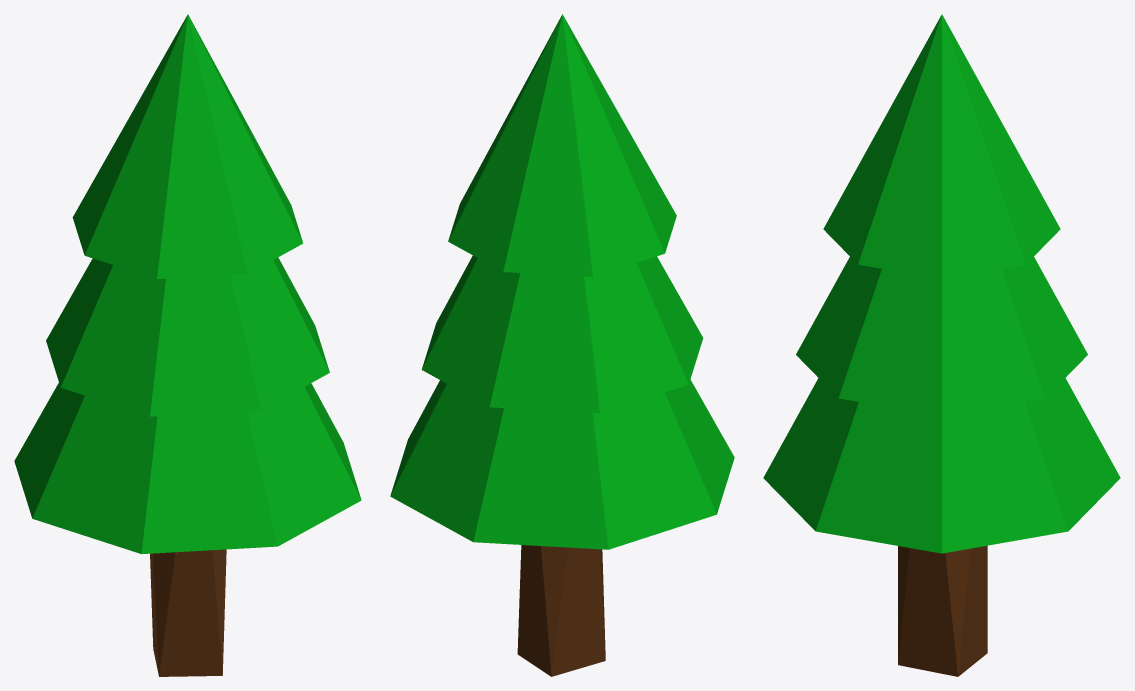
File: lowpoly-tree.glb
3 renders of one model, left to right at view 1: azimuth 30°, elevation 25°; view 2: azimuth 150°, elevation 25°; view 3: azimuth 270°, elevation 25°, orthographic.
Parts seen in each view (by area): view 1: Cone, Cone.002, Cone.001, Cylinder; view 2: Cone, Cone.002, Cone.001, Cylinder; view 3: Cone, Cone.002, Cone.001, Cylinder.
Part boxes in pixels (left/top/right/bottom): Cone: left=14, top=383, right=361, bottom=554; Cone.002: left=72, top=14, right=303, bottom=279; Cone.001: left=46, top=257, right=329, bottom=416; Cylinder: left=150, top=549, right=226, bottom=676; Cone: left=390, top=379, right=734, bottom=549; Cone.002: left=448, top=14, right=676, bottom=276; Cone.001: left=421, top=255, right=703, bottom=413; Cylinder: left=517, top=545, right=605, bottom=676; Cone: left=763, top=378, right=1120, bottom=553; Cone.002: left=823, top=14, right=1060, bottom=279; Cone.001: left=796, top=257, right=1087, bottom=416; Cylinder: left=898, top=545, right=987, bottom=676.
Size of the model in its own units: 2.17 by 4.33 by 2.17.
